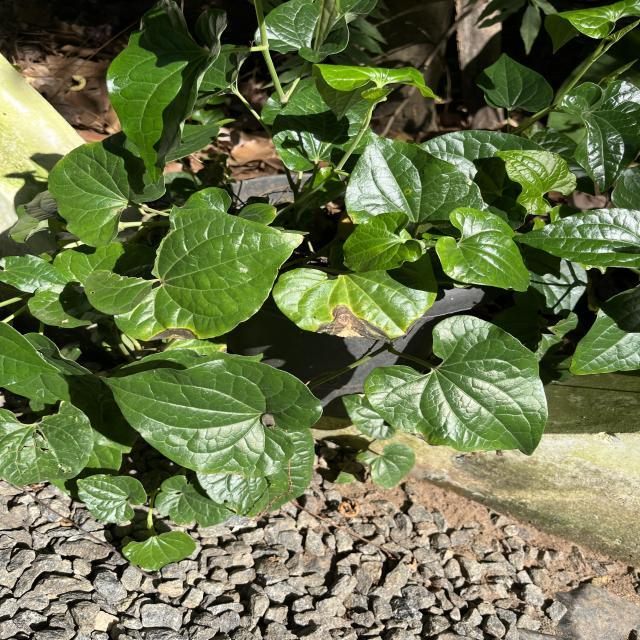Piper longum: (95, 356, 326, 482), (362, 314, 550, 458), (102, 0, 232, 189), (344, 126, 486, 228), (433, 204, 532, 294), (492, 148, 578, 218), (340, 210, 424, 274)
